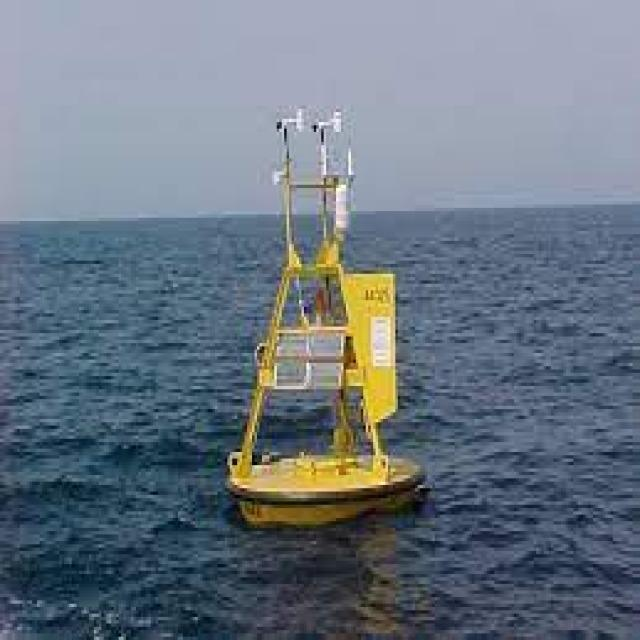buoy: (213, 85, 428, 541)
